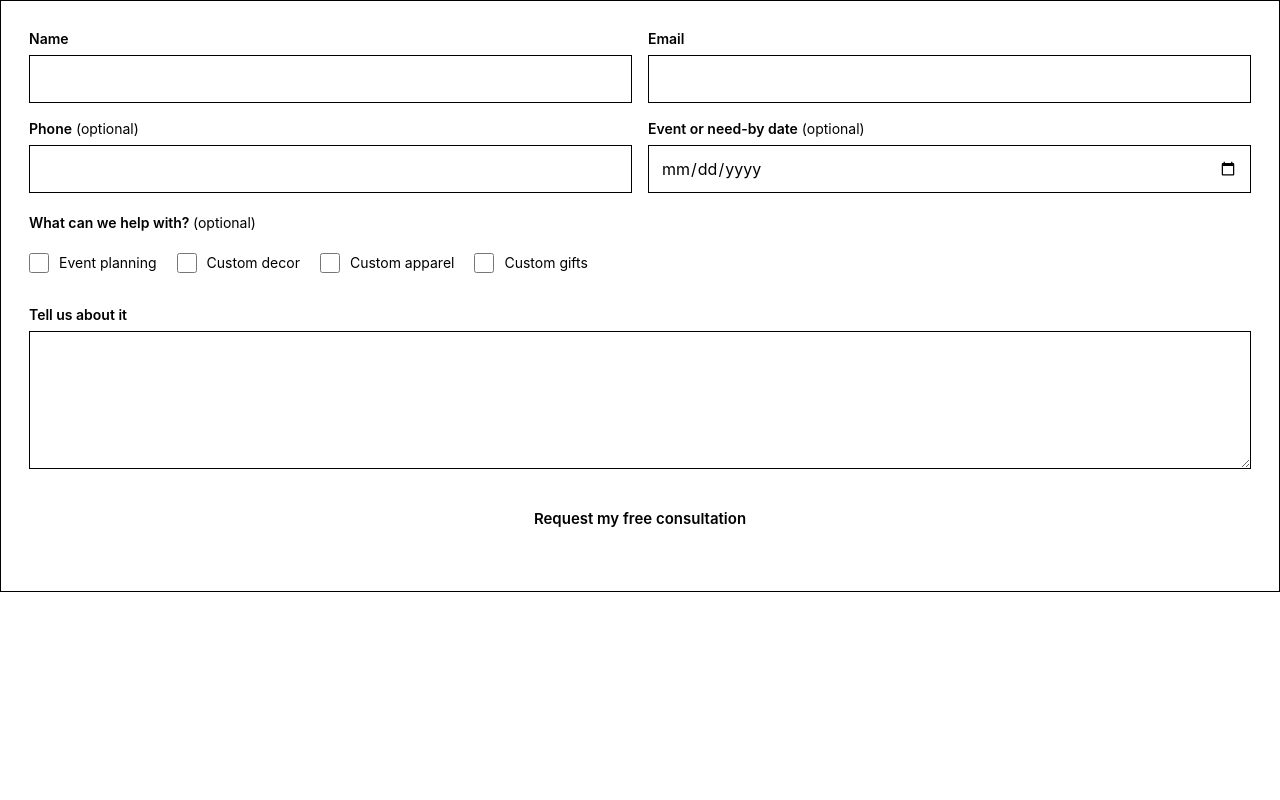
Test: ContactForm (FORM_UI) › blocks an empty submit with an inline message and sends nothing
Click the button "Request my free consultation" at (640, 519), box [29,495,1251,543]
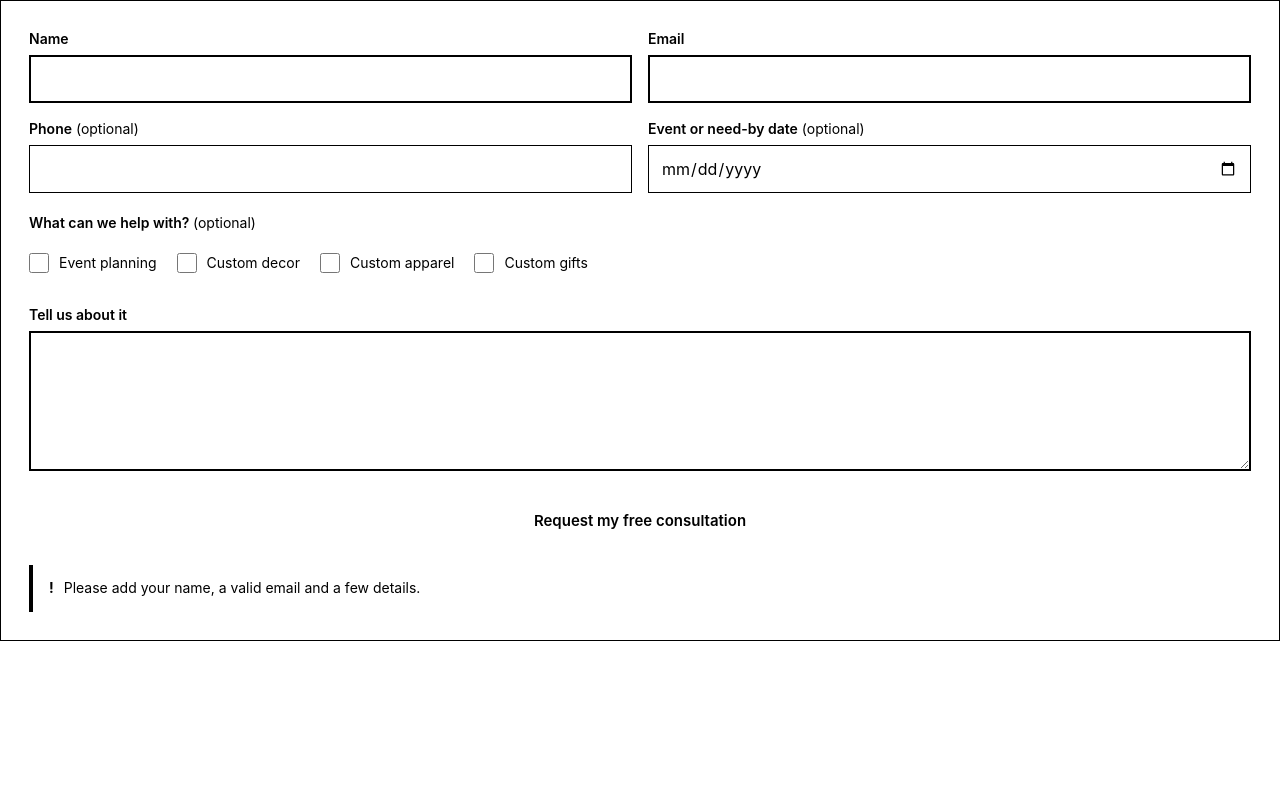
Expected: the message shows "Please add your name, a valid email and a few details.", [64,579,420,596]
